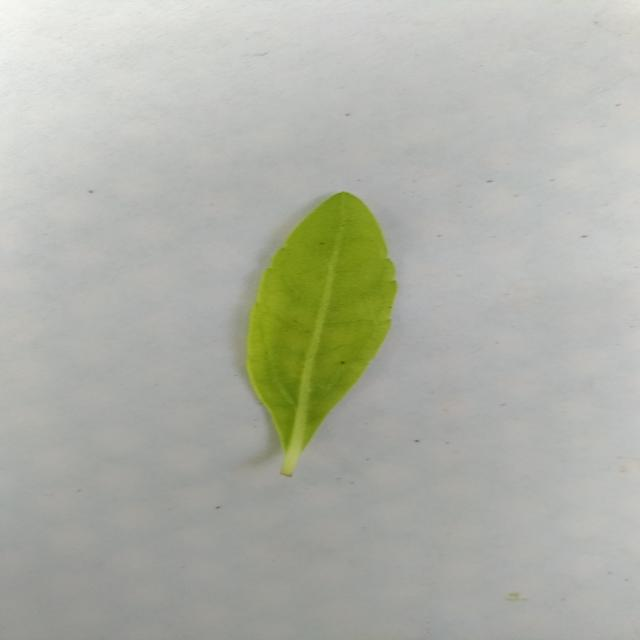bringaraja: (247, 192, 398, 475)
